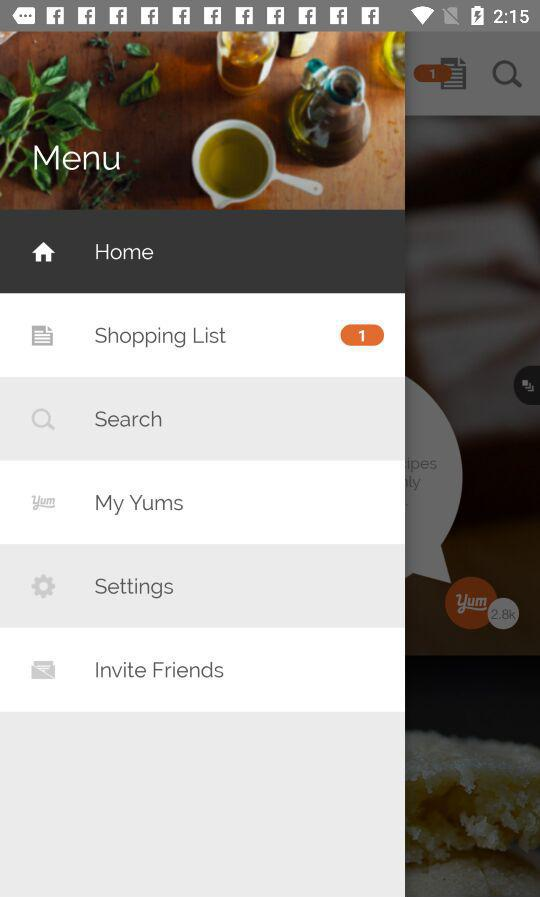Drawer: (1, 32, 406, 897)
Icon: (31, 574, 57, 600), (32, 408, 57, 433), (32, 242, 58, 264), (32, 325, 55, 348), (31, 660, 57, 680)
Image: (1, 33, 406, 211), (32, 495, 57, 512)
Text: (94, 326, 228, 349), (95, 660, 225, 679), (34, 145, 122, 172), (96, 494, 185, 516), (95, 577, 175, 599), (95, 410, 163, 429), (96, 243, 155, 261)
UpperTaskBar: (1, 1, 540, 33)
